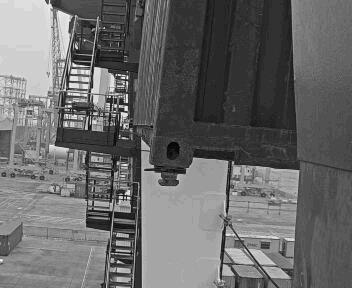twist_lock_1: (151, 162, 193, 194)
